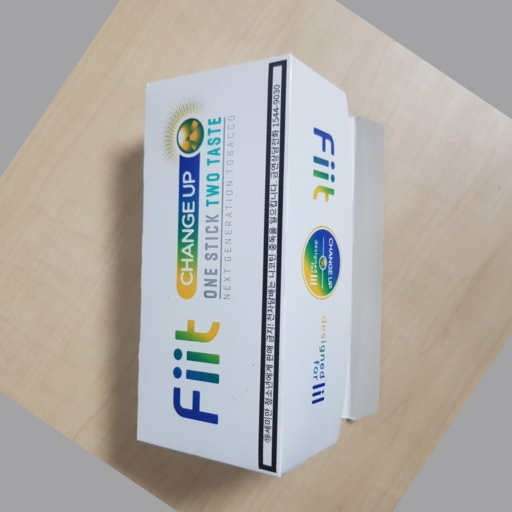Paper_0: (132, 50, 381, 480)
